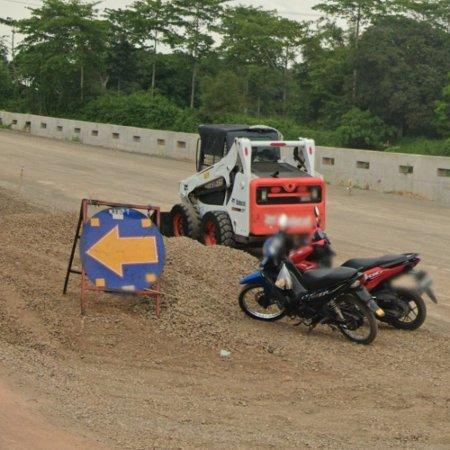motorcycles: (239, 232, 385, 345), (343, 254, 438, 330), (290, 229, 335, 271)
tractors: (169, 125, 327, 246)
